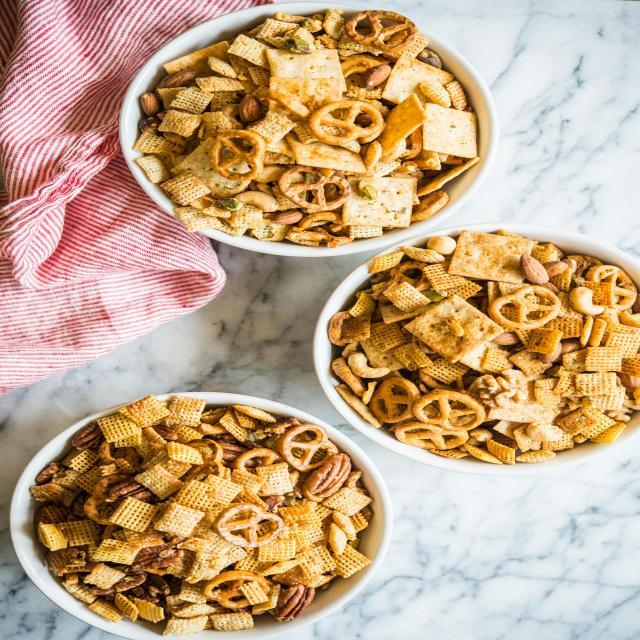Salatini: (121, 13, 487, 241), (33, 399, 363, 628), (323, 228, 640, 464)
